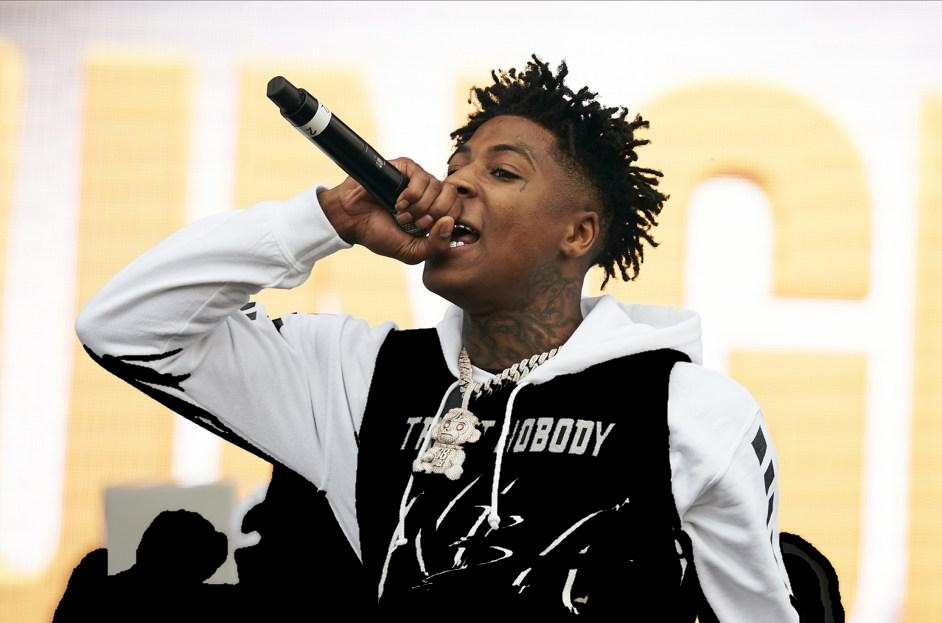quandale-dingle: (419, 106, 616, 312)
